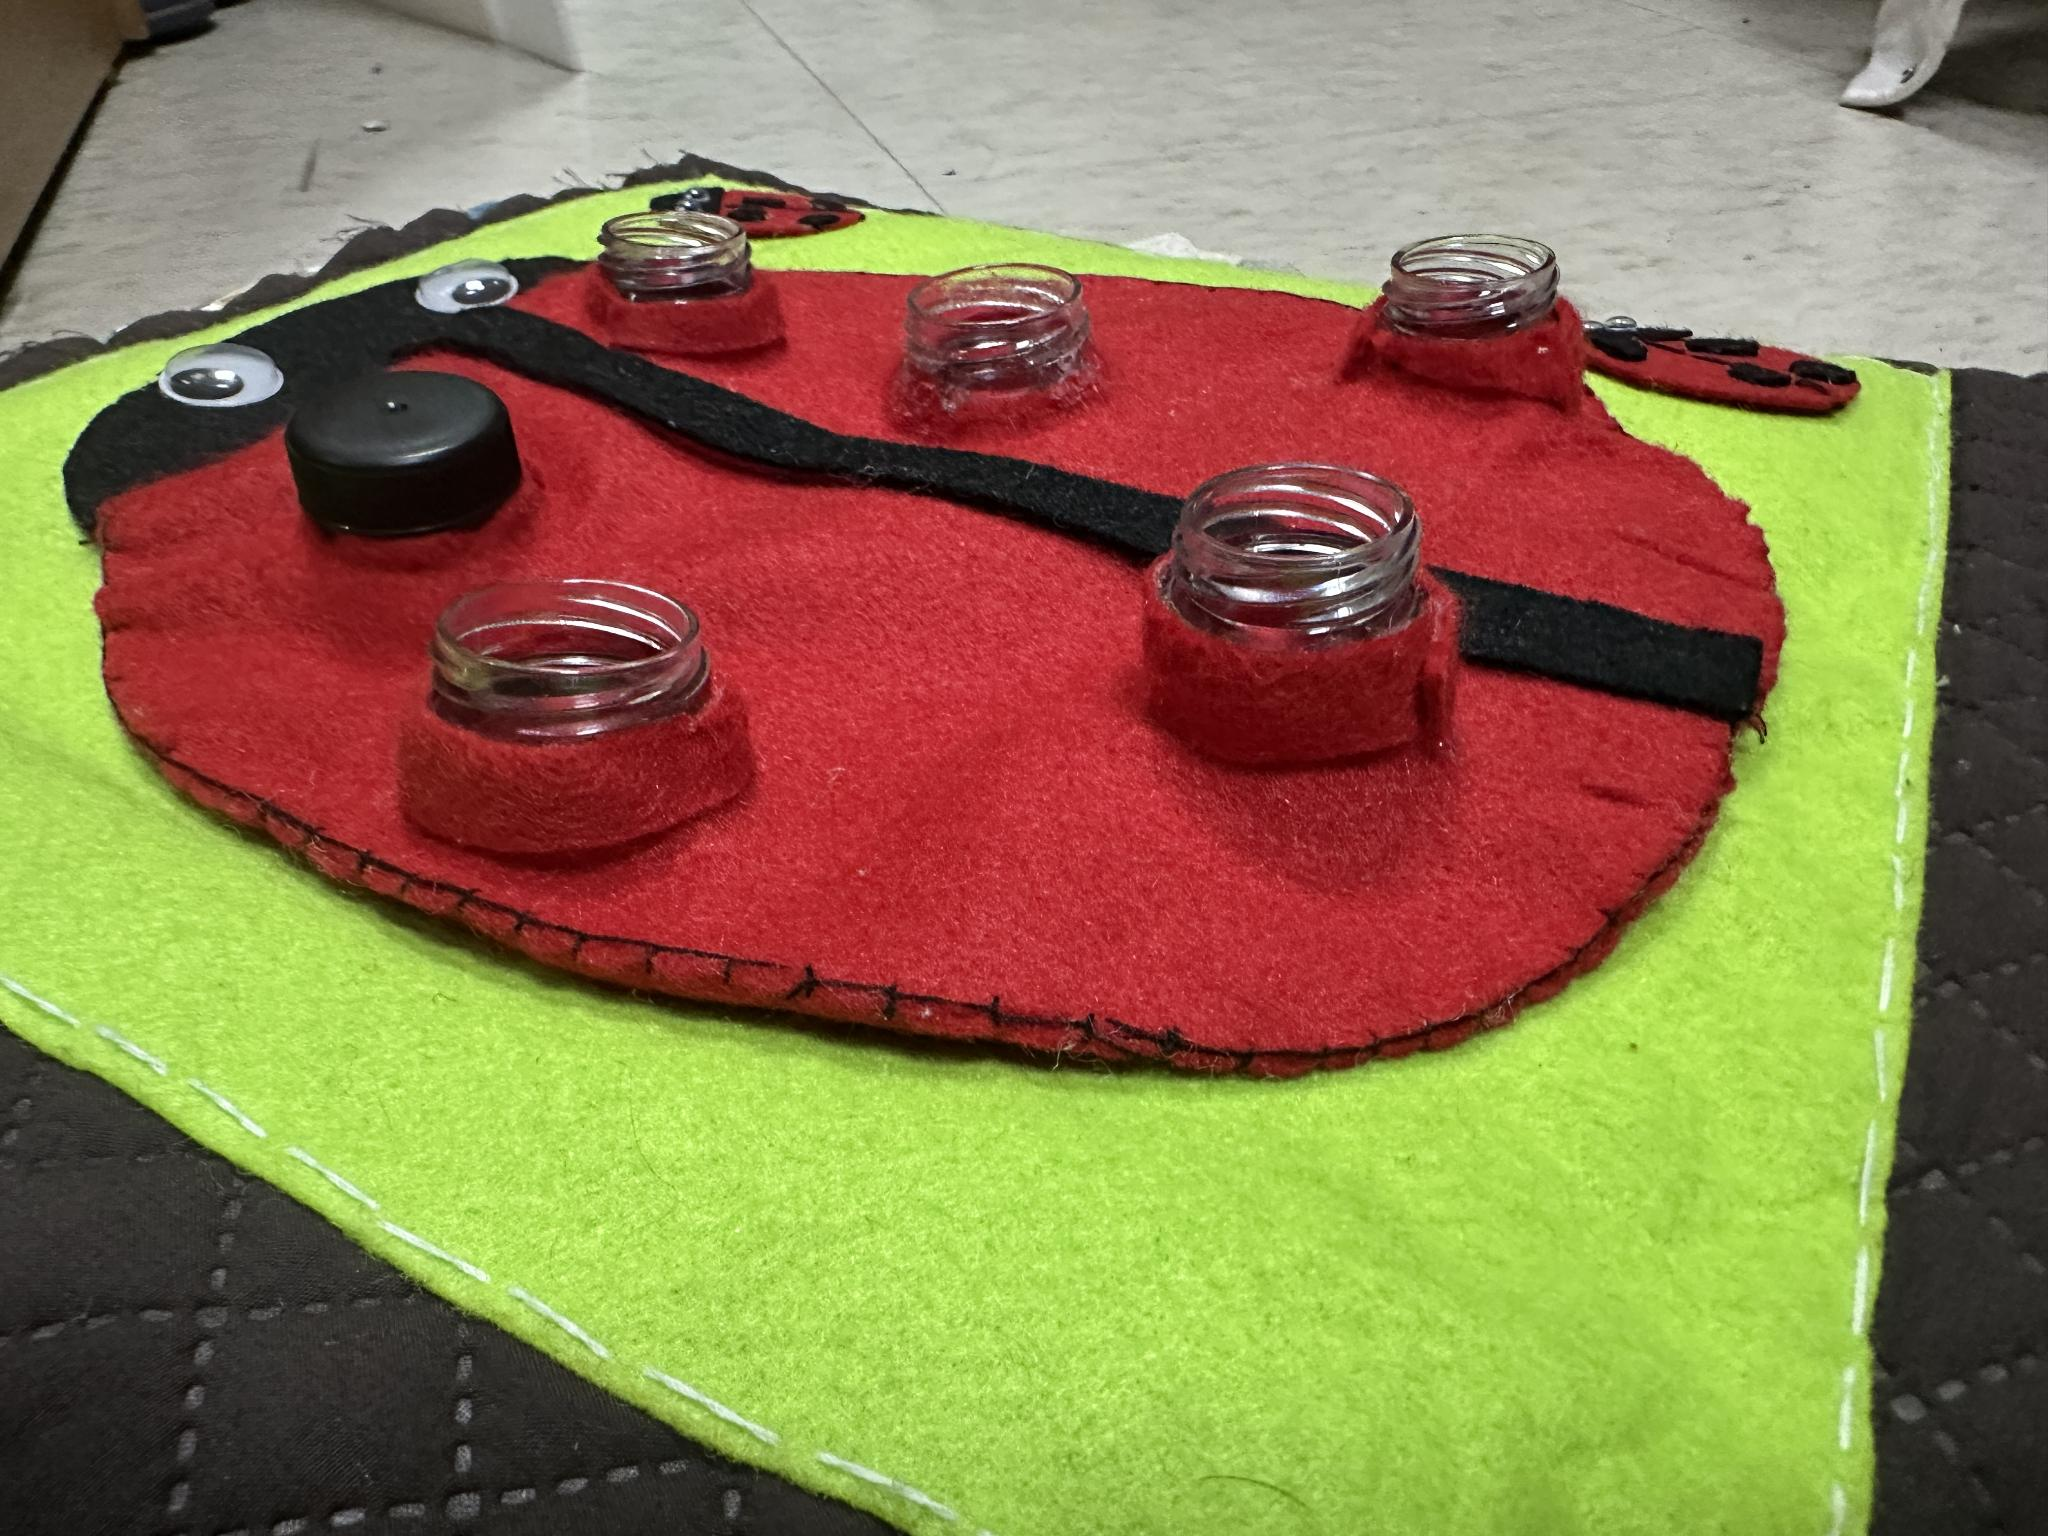cap_ok: (264, 353, 569, 571)
